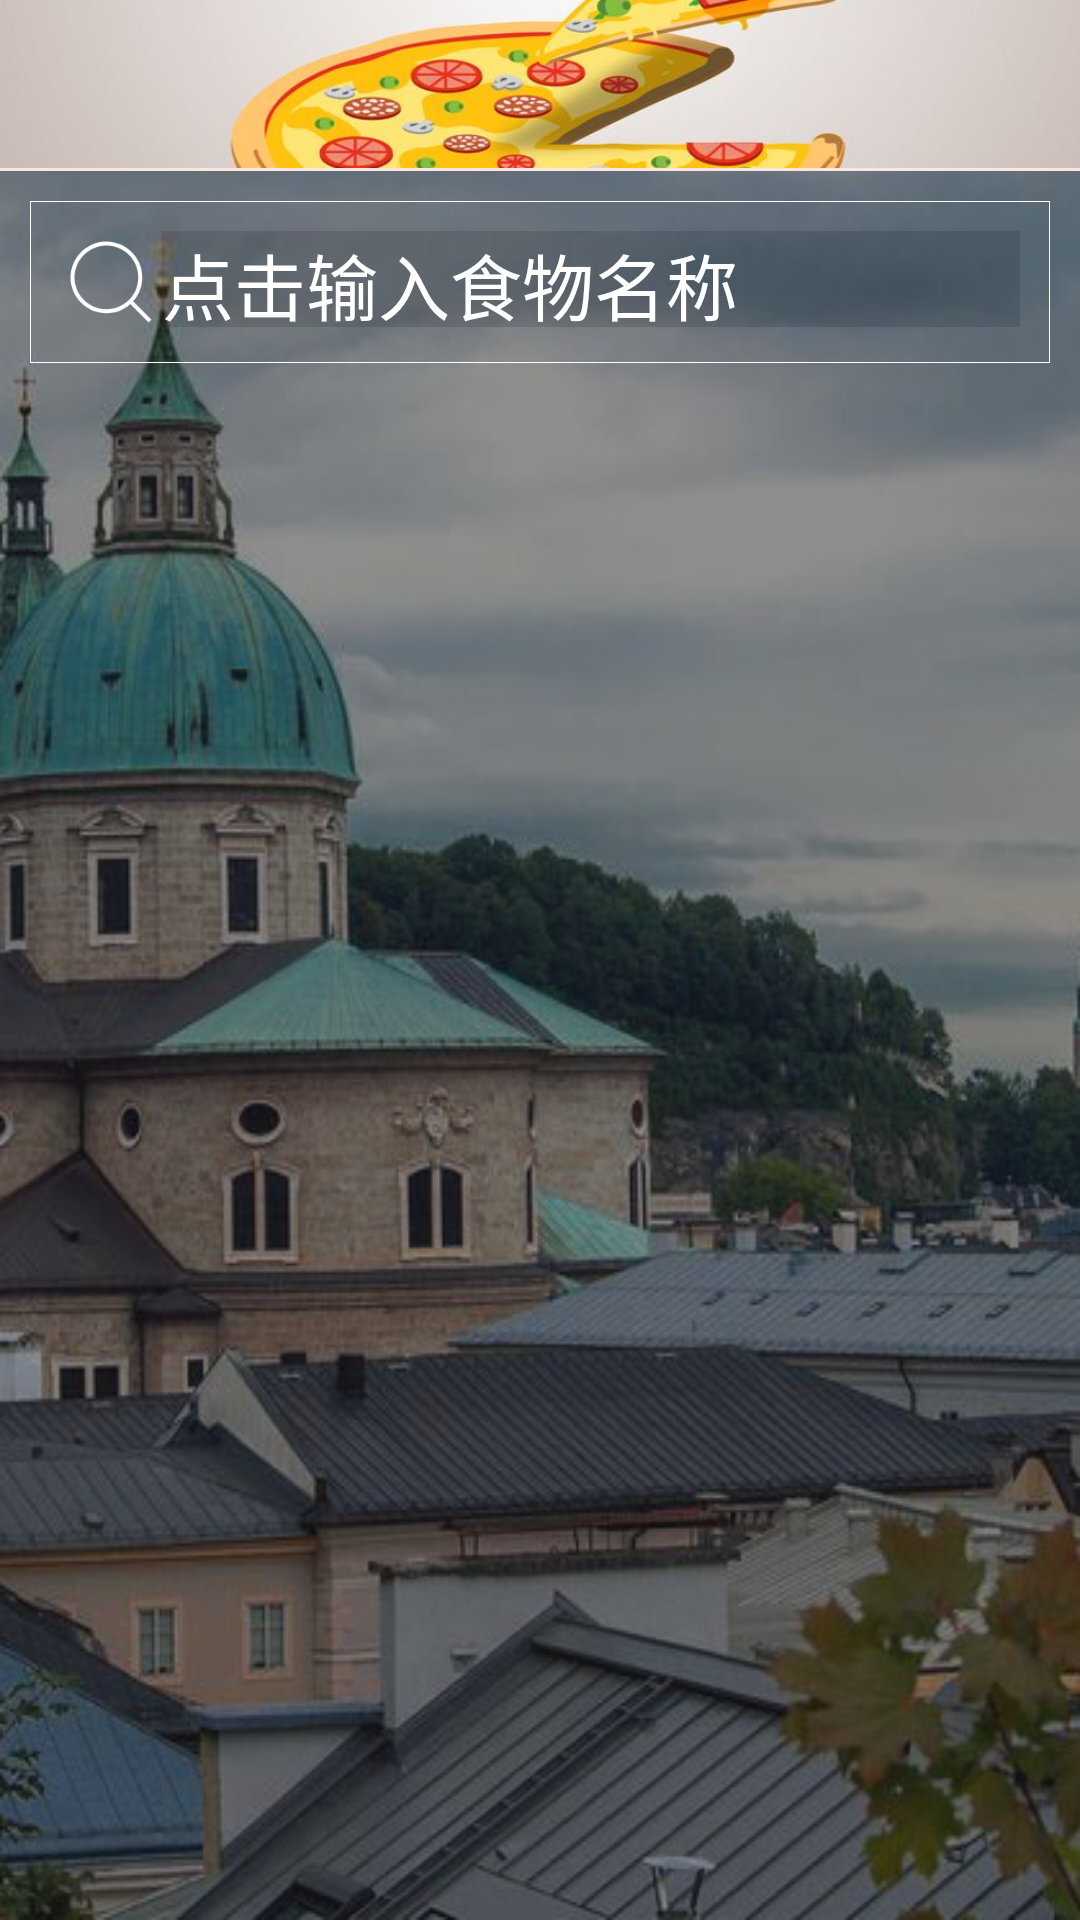

Where to tap for icons on this 1080*1920 app screen, as point (x, y):
query: point (111, 282)
